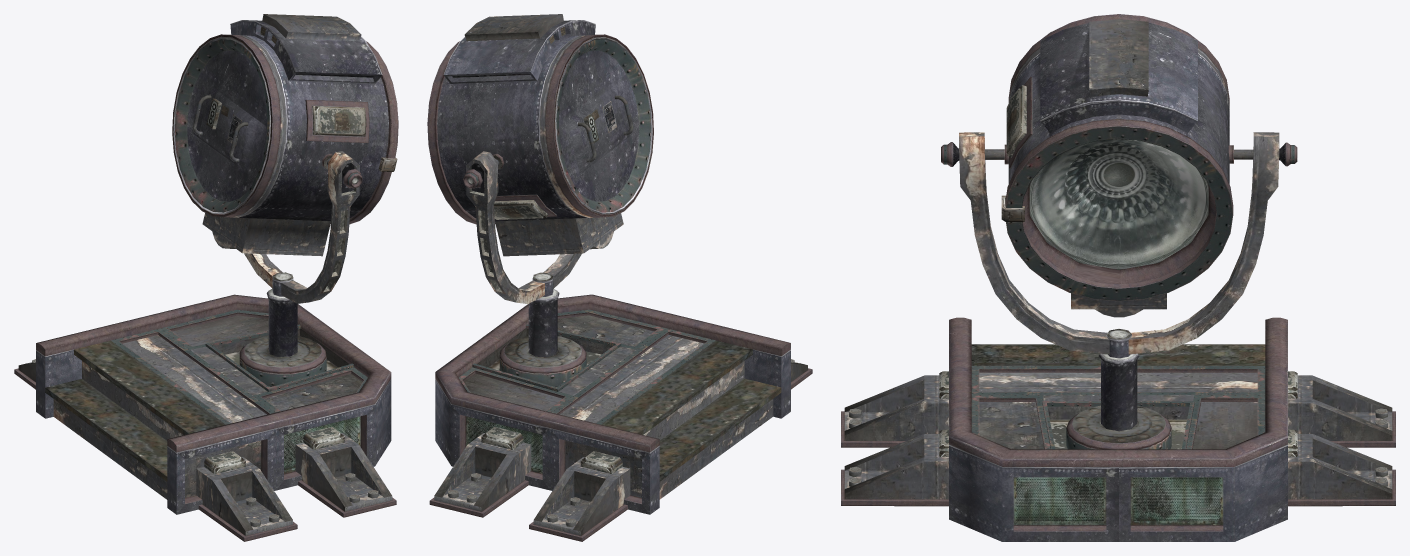
File: searchlight_on_prn_as.fbx
3 renders of one model, left to right at view 1: azimuth 30°, elevation 25°; view 2: azimuth 150°, elevation 25°; view 3: azimuth 270°, elevation 25°, orthographic. The views are drawn at different scales.
Parts seen in each view (by area): view 1: searchlight_on_prn_as; view 2: searchlight_on_prn_as; view 3: searchlight_on_prn_as.
Boxes of the visible parts, x1,y1,x2,y2 form: searchlight_on_prn_as: (14,14,398,541); searchlight_on_prn_as: (427,14,812,541); searchlight_on_prn_as: (841,14,1395,541).
Bounding box in the file's own units: 56.98 × 83.38 × 86.71.
1 material, 1 textured.
